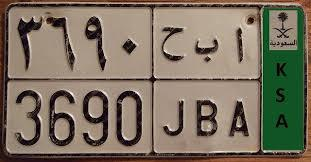0: (115, 37, 144, 147)
3: (15, 15, 43, 147)
6: (46, 15, 77, 147)
9: (82, 15, 109, 148)
A: (227, 27, 251, 139)
B: (193, 37, 219, 138)
J: (160, 26, 186, 138)
